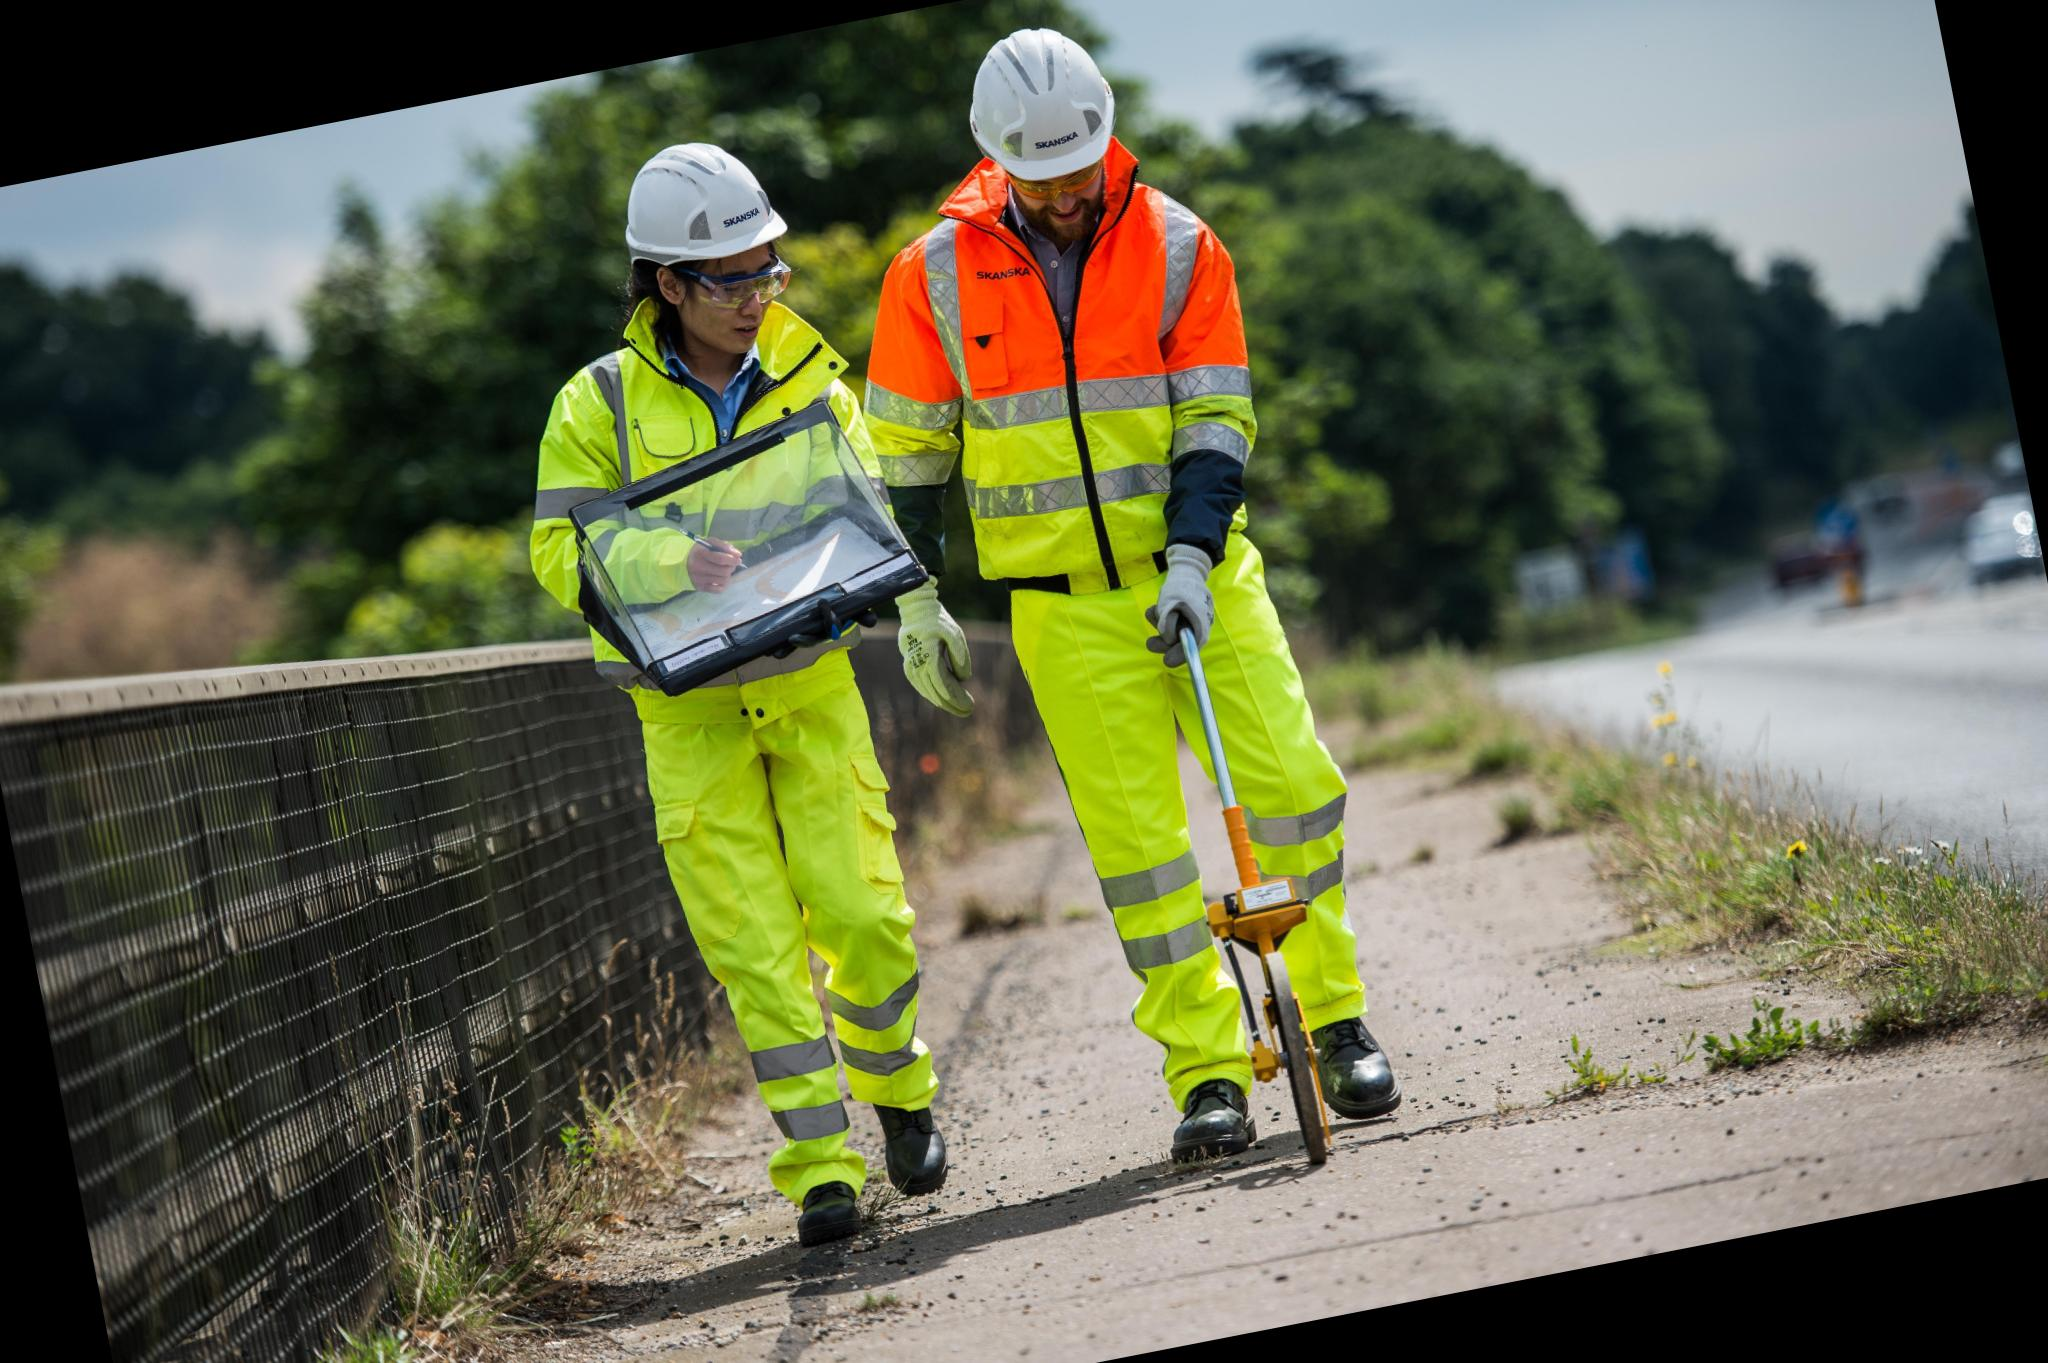Helmet: (912, 0, 1189, 218), (575, 113, 804, 303)
Vest: (867, 132, 1301, 665), (494, 254, 926, 744)
